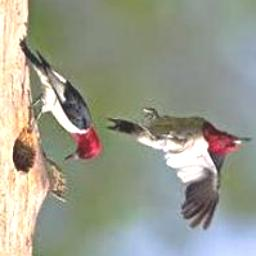Woodpecker: (105, 108, 252, 231), (19, 38, 103, 162)
